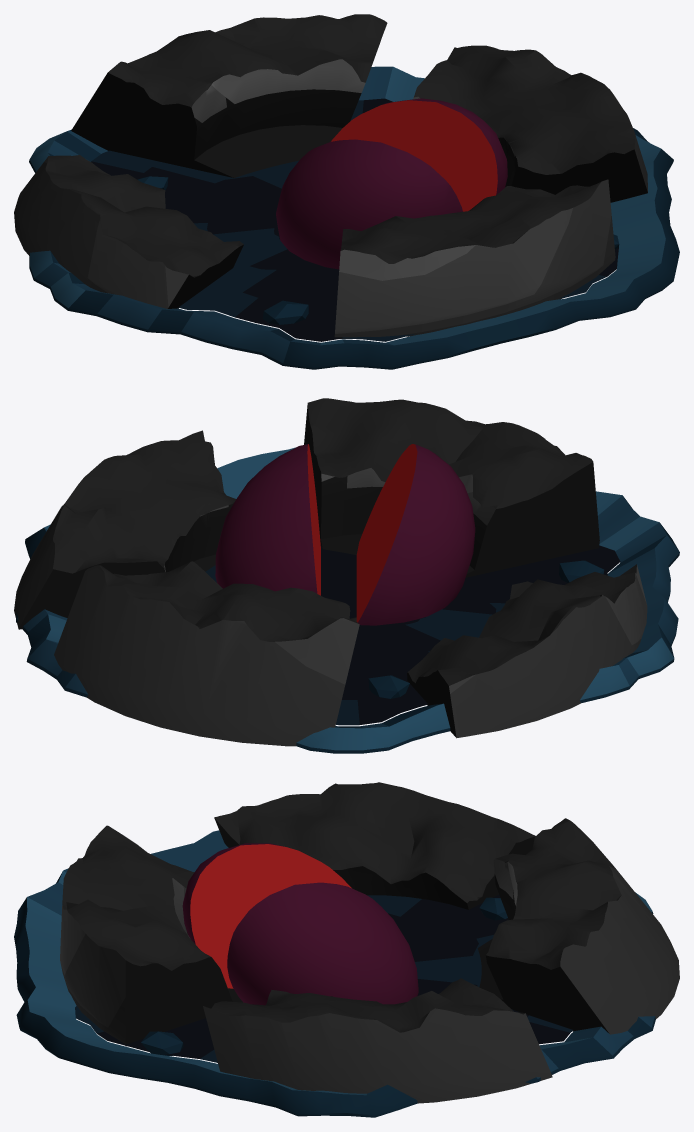
File: fruit_hex_eye_wreck.glb
3 views of the same model, one above another, from view 1: azimuth 30°, elevation 25°; view 2: azimuth 150°, elevation 25°; view 3: azimuth 270°, elevation 25° (orthographic). The views are drawn at different scales.
Visible parts, largest first — view 1: fruit_hex_eye_wreck; view 2: fruit_hex_eye_wreck; view 3: fruit_hex_eye_wreck.
Part boxes in pixels (x1,y1,x2,y2): fruit_hex_eye_wreck: (14,14,679,369); fruit_hex_eye_wreck: (14,398,679,753); fruit_hex_eye_wreck: (14,782,679,1117).
Bounding box in the file's own units: 12.96 × 2.43 × 12.51.
